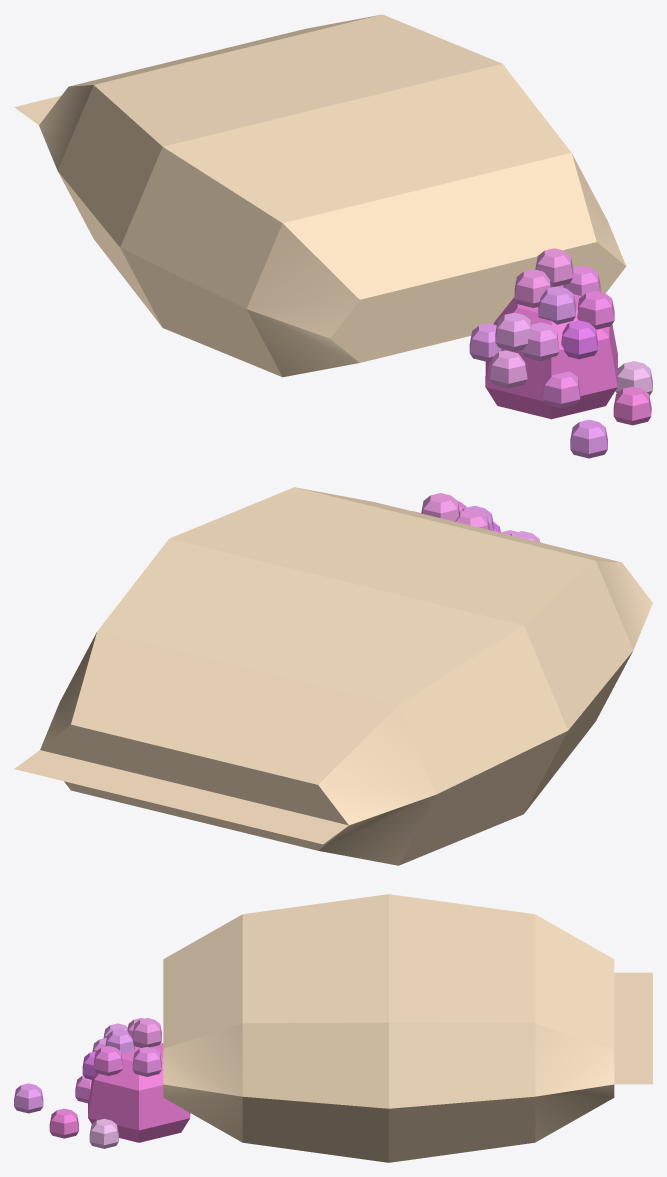
File: FertilizerBagM.fbx
3 renders of one model, top to bottom at view 1: azimuth 30°, elevation 25°; view 2: azimuth 150°, elevation 25°; view 3: azimuth 270°, elevation 25°, orthographic. The views are drawn at different scales.
Parts seen in each view (by area): view 1: bagFlat, stone_smallI.001, stone_smallI.008, stone_smallI.013, stone_smallI.003, stone_smallI.005, stone_smallI.006, stone_smallI.009, stone_smallI.012, stone_smallI.007, stone_smallI.011, stone_smallI.004 (+4 smaller); view 2: bagFlat, stone_smallI.004; view 3: bagFlat, stone_smallI.001, stone_smallI.008, stone_smallI.013, stone_smallI.014, stone_smallI.002, stone_smallI.004, stone_smallI.007, stone_smallI.006.
Part boxes in pixels (box(x1,y1,x2,y2)): bagFlat: box(14, 14, 626, 377); stone_smallI.001: box(485, 285, 617, 419); stone_smallI.008: box(613, 386, 651, 425); stone_smallI.013: box(570, 419, 607, 458); stone_smallI.003: box(489, 350, 527, 388); stone_smallI.005: box(561, 320, 597, 359); stone_smallI.006: box(538, 286, 575, 324); stone_smallI.009: box(495, 312, 531, 351); stone_smallI.012: box(542, 371, 580, 408); stone_smallI.007: box(577, 291, 614, 329); stone_smallI.011: box(521, 322, 559, 361); stone_smallI.004: box(535, 248, 573, 286); bagFlat: box(14, 487, 652, 865); stone_smallI.004: box(421, 493, 459, 521); bagFlat: box(163, 894, 652, 1162); stone_smallI.001: box(88, 1042, 190, 1142); stone_smallI.008: box(49, 1108, 78, 1138); stone_smallI.013: box(14, 1083, 43, 1113); stone_smallI.014: box(89, 1118, 118, 1148); stone_smallI.002: box(132, 1047, 161, 1076); stone_smallI.004: box(132, 1018, 161, 1047); stone_smallI.007: box(93, 1046, 122, 1075); stone_smallI.006: box(105, 1029, 134, 1053).
Size of the model in its own units: 18.7 by 7.72 by 31.45.
